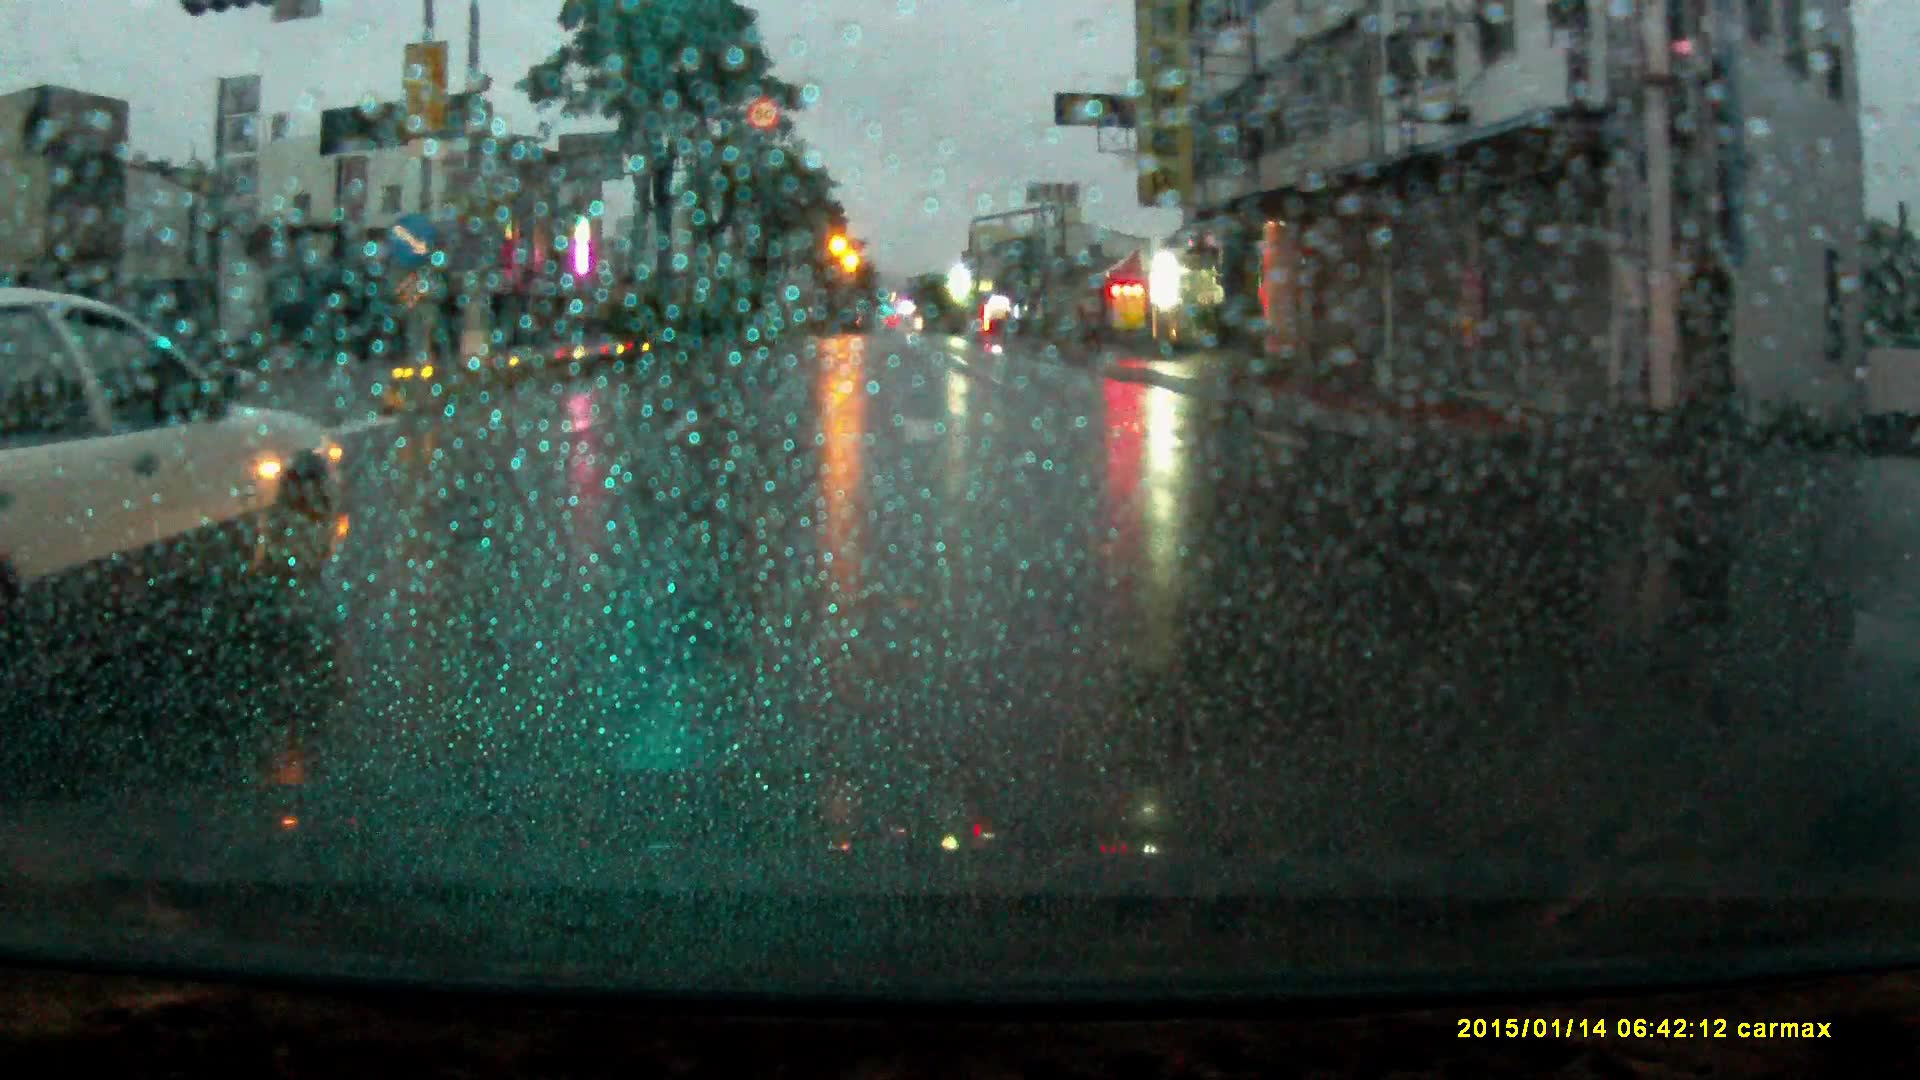vehicle: (1, 284, 353, 663)
